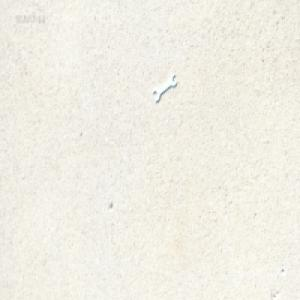Wrench: (153, 72, 176, 103)
